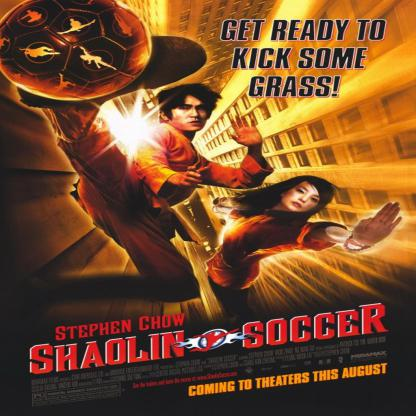face: (170, 94, 208, 132), (283, 183, 324, 213)
